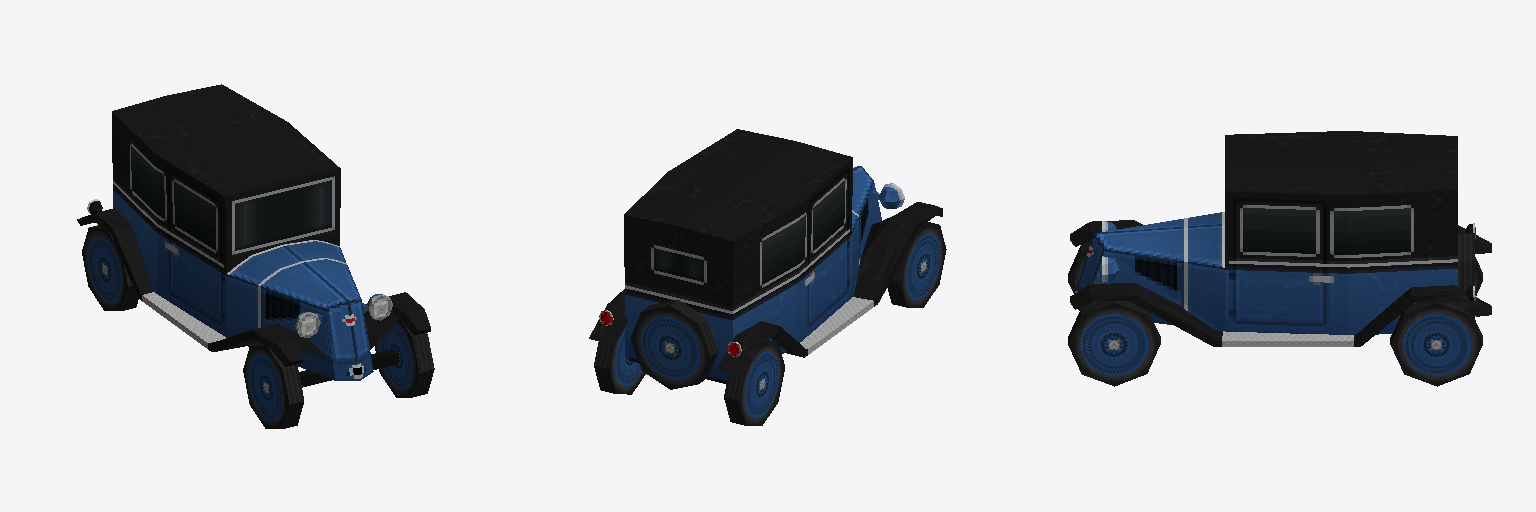
3 renders of one model, left to right at view 1: azimuth 30°, elevation 25°; view 2: azimuth 150°, elevation 25°; view 3: azimuth 270°, elevation 25°, orthographic.
Visible parts, largest first — view 1: Car7; view 2: Car7; view 3: Car7.
Boxes of the visible parts, box(x1,y1,x2,y2) form: Car7: box(77, 84, 434, 428); Car7: box(589, 129, 946, 425); Car7: box(1068, 131, 1491, 386).
Size of the model in its own units: 2.43 by 2.86 by 5.78.
Materials: 1 (1 with a texture image).